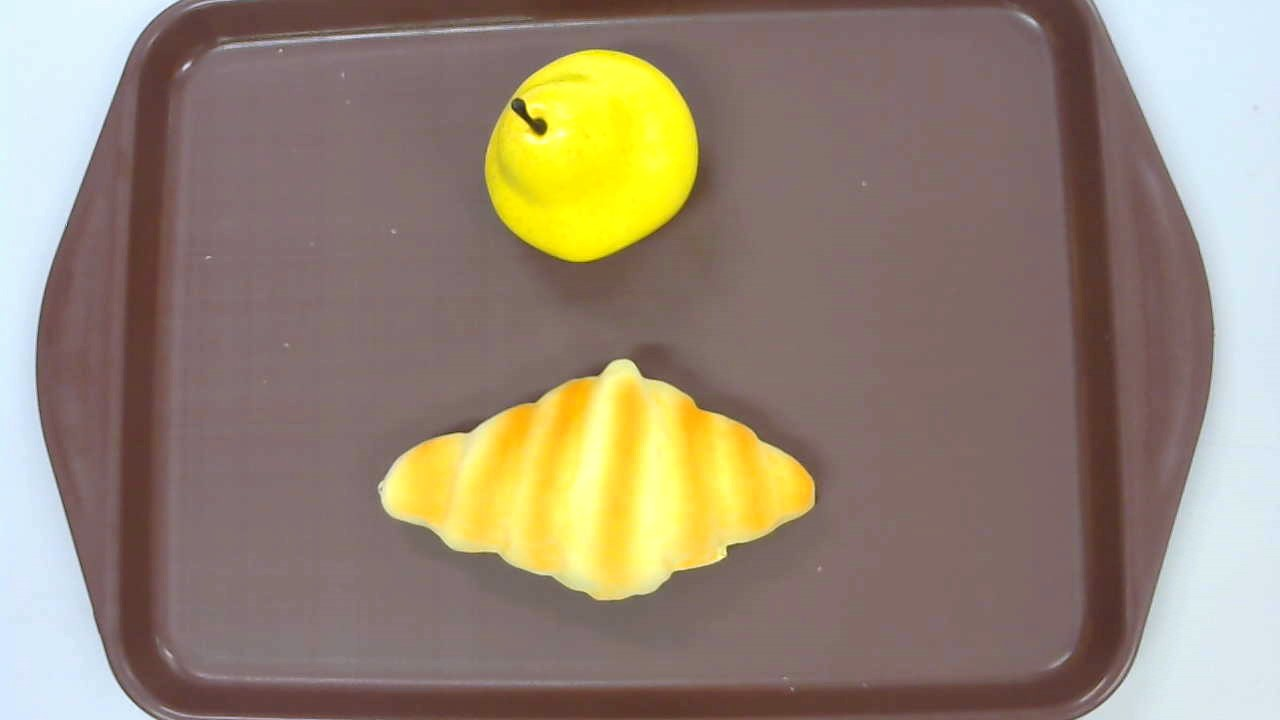croissant: (378, 359, 816, 603)
yellow pear: (484, 48, 699, 263)
